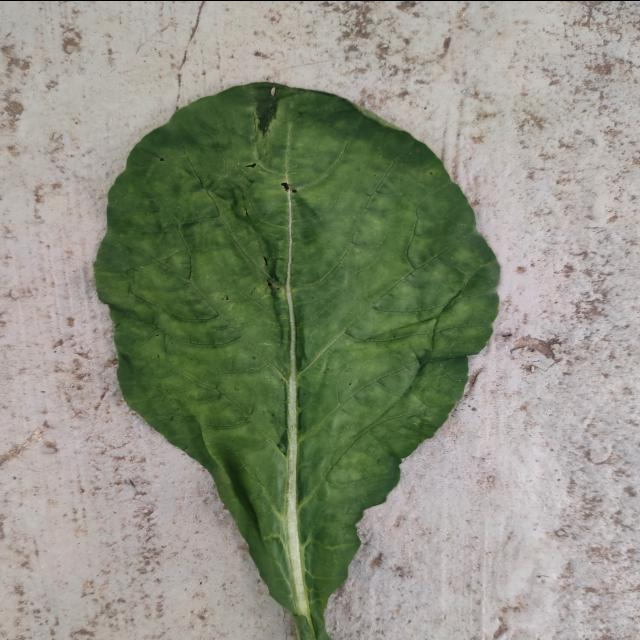leaf: (92, 80, 501, 639)
